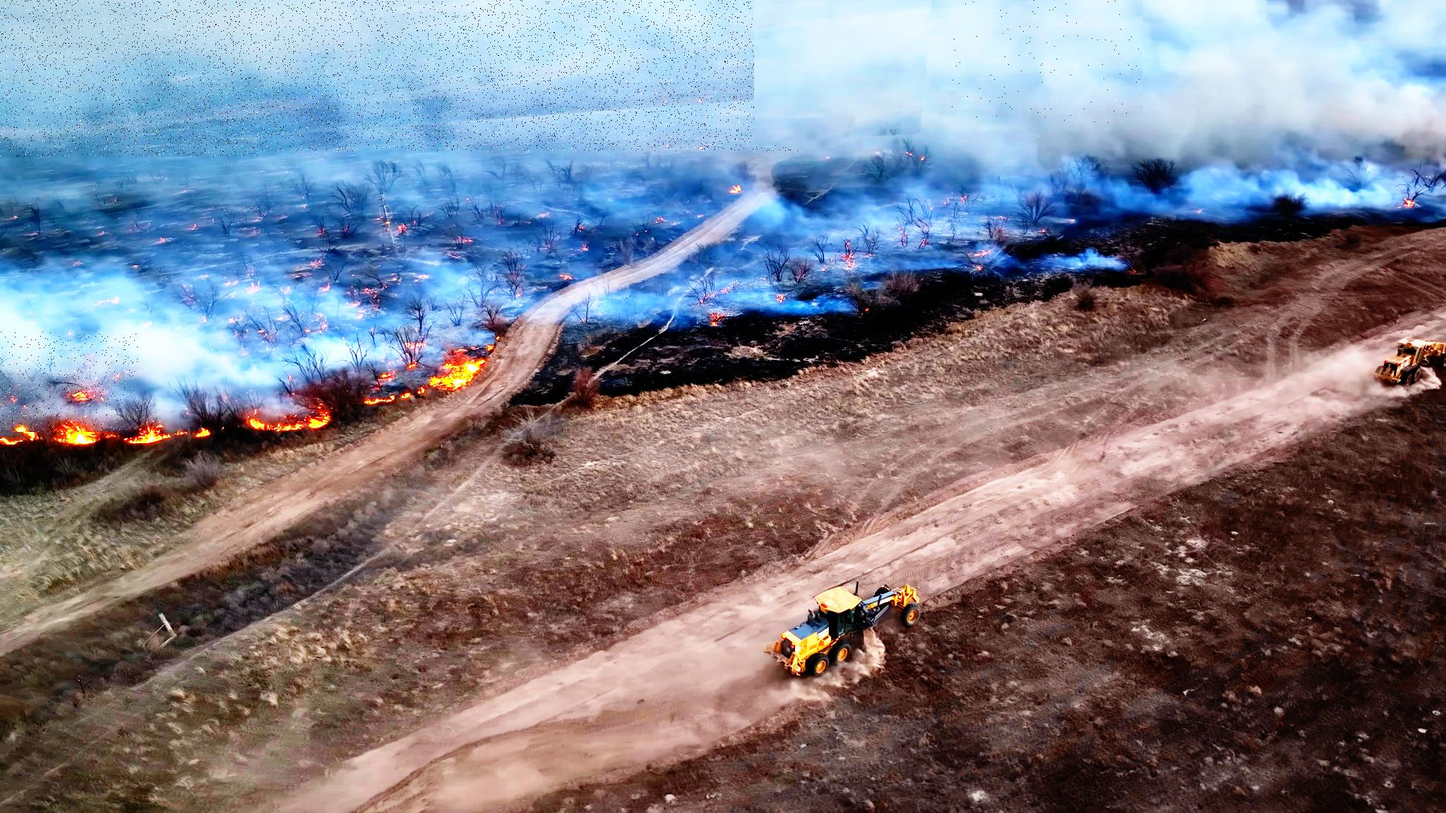smoke: (66, 0, 800, 151), (0, 0, 258, 157), (754, 0, 933, 145), (951, 0, 1143, 123), (0, 332, 138, 432)
